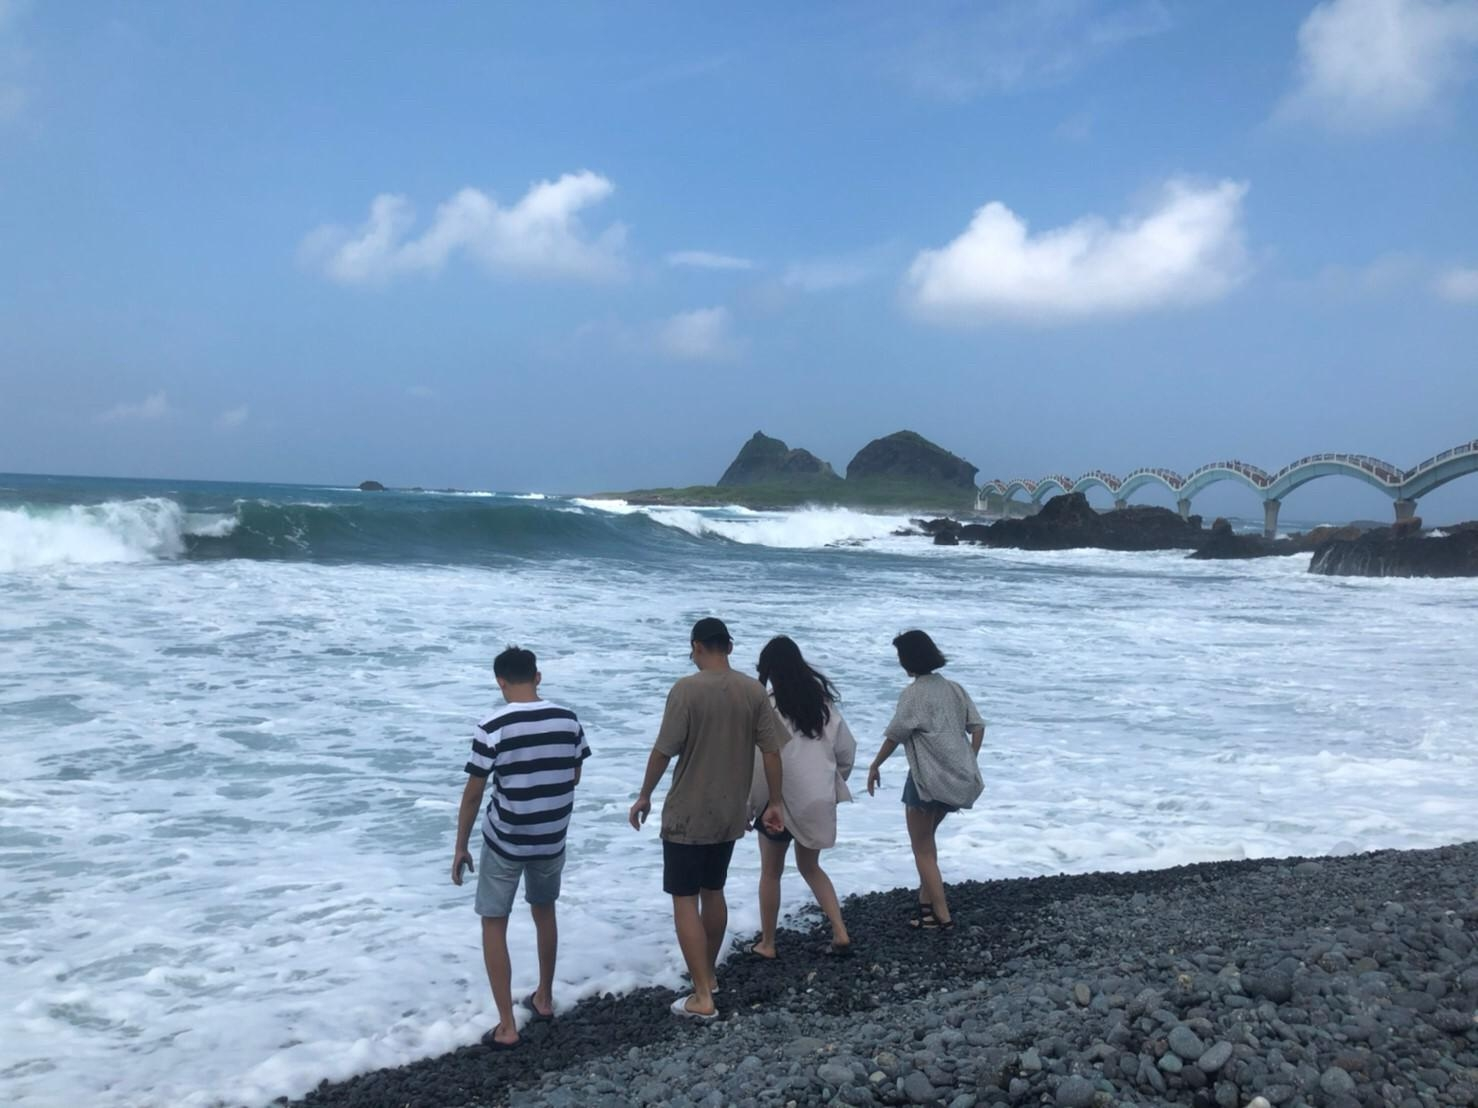people: (458, 646, 581, 1050), (665, 617, 740, 1032), (888, 630, 973, 938), (765, 636, 846, 957)
